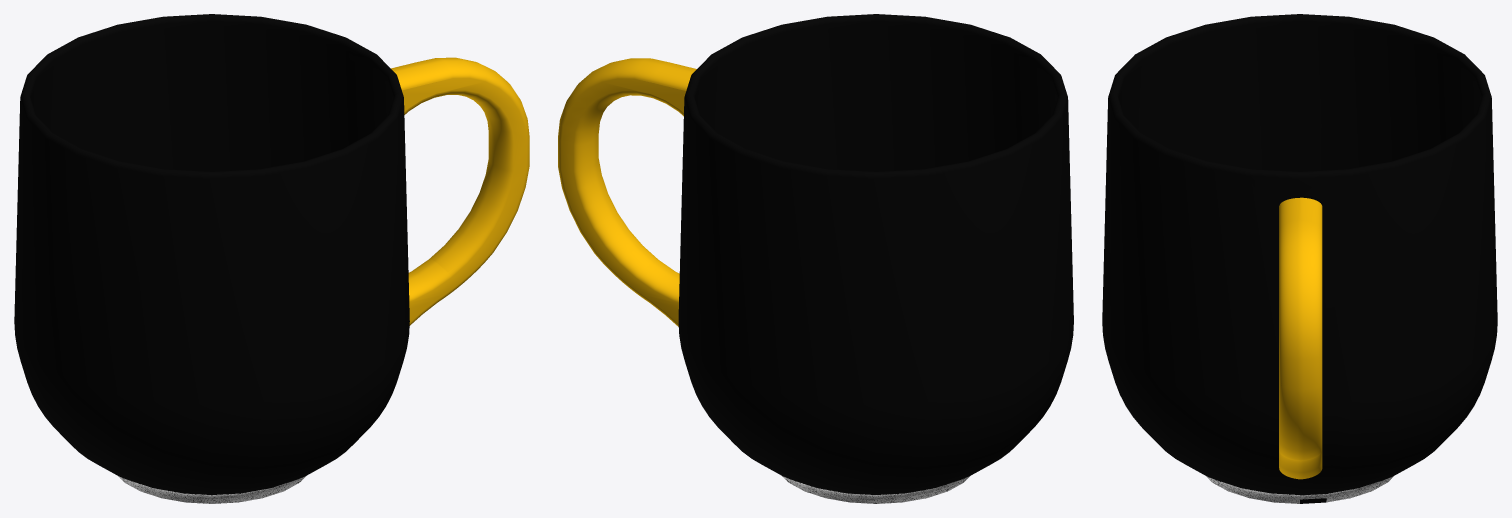
File: mug_10_origin_gt_1_new_env.dae
The picture shows the model from 3 angles, left to right: view 1: azimuth 30°, elevation 25°; view 2: azimuth 150°, elevation 25°; view 3: azimuth 270°, elevation 25°; orthographic projection.
Parts seen in each view (by area): view 1: SketchUp (×2), group_0; view 2: SketchUp (×2), group_0; view 3: SketchUp (×2), group_0.
Part boxes in pixels (box(x1,y1,x2,y2)): SketchUp (×2): box(14, 14, 409, 503); group_0: box(391, 57, 529, 325); SketchUp (×2): box(678, 14, 1073, 503); group_0: box(558, 58, 696, 326); SketchUp (×2): box(1102, 14, 1497, 503); group_0: box(1279, 197, 1322, 479).
Bounding box in the file's own units: 5.96 × 4.21 × 4.32.
